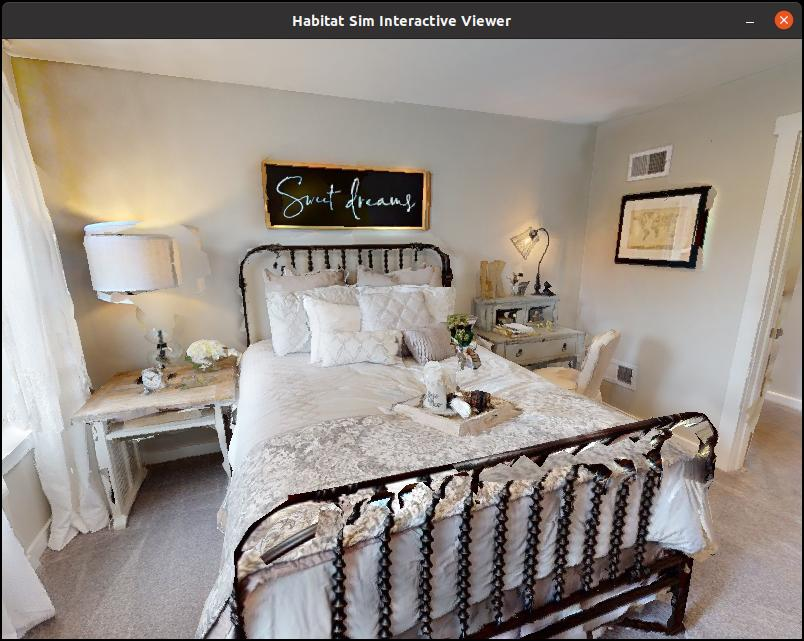bed: (195, 230, 725, 641)
table: (84, 338, 250, 509)
